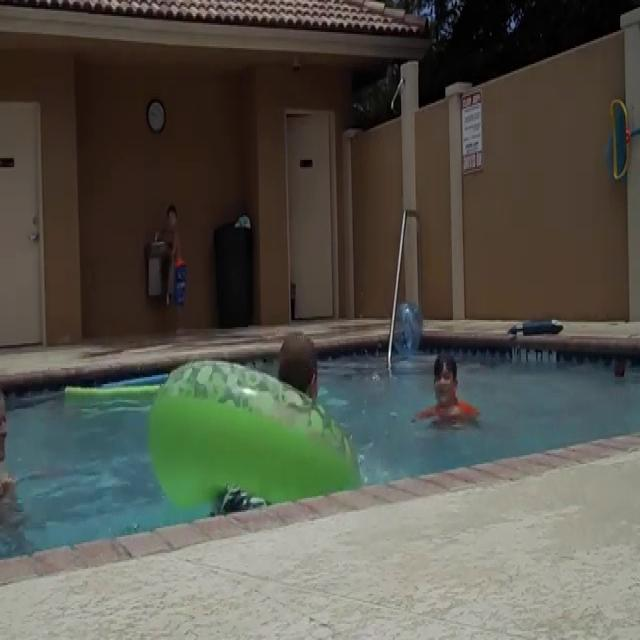child: (264, 332, 323, 514), (417, 345, 476, 449), (167, 205, 186, 331)
